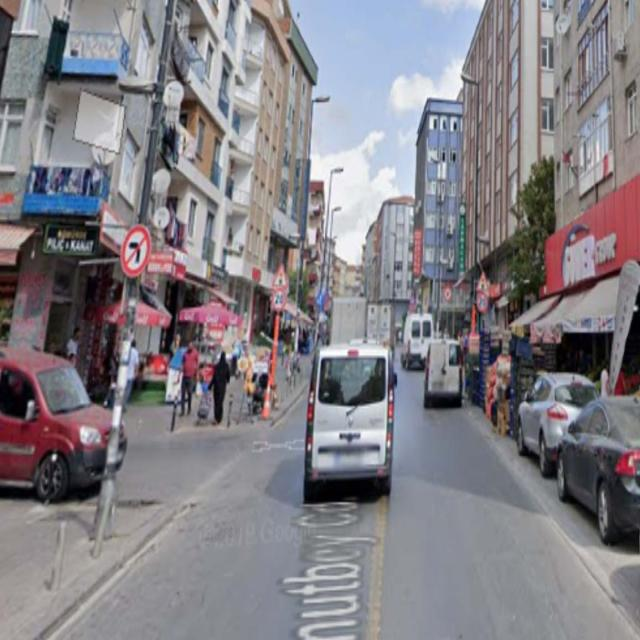20: (273, 288, 285, 309)
soladonulmez: (122, 226, 150, 274)
